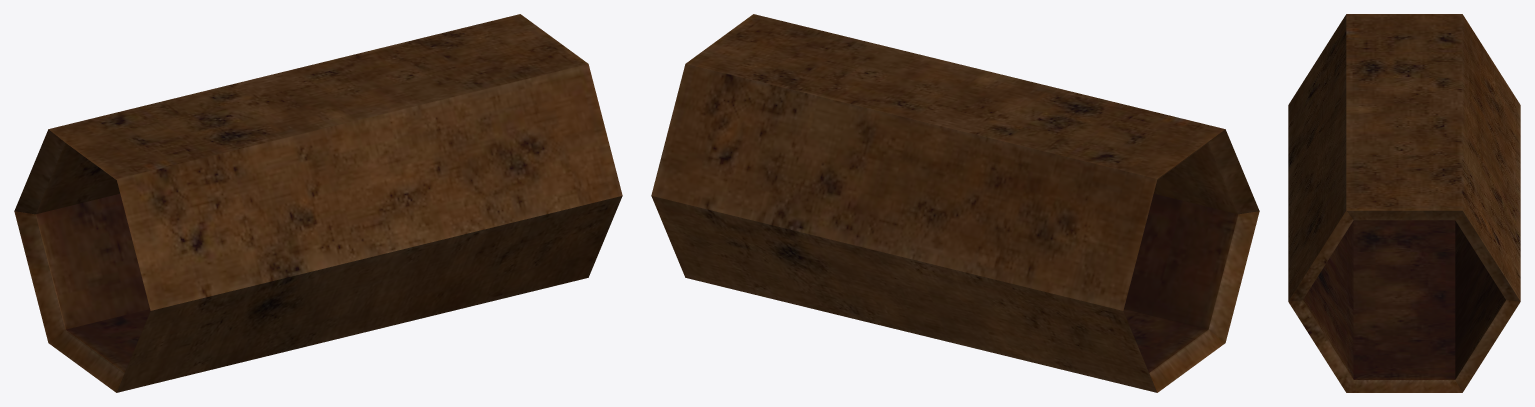
File: Tree_Body.fbx
3 renders of one model, left to right at view 1: azimuth 30°, elevation 25°; view 2: azimuth 150°, elevation 25°; view 3: azimuth 270°, elevation 25°, orthographic. The views are drawn at different scales.
Parts seen in each view (by area): view 1: Tree_Body; view 2: Tree_Body; view 3: Tree_Body.
Part boxes in pixels (left/top/right/bottom): Tree_Body: left=14, top=14, right=622, bottom=392; Tree_Body: left=651, top=14, right=1259, bottom=392; Tree_Body: left=1288, top=14, right=1520, bottom=392.
Size of the model in its own units: 40 by 20 by 17.32.
Materials: 1 (1 with a texture image).
